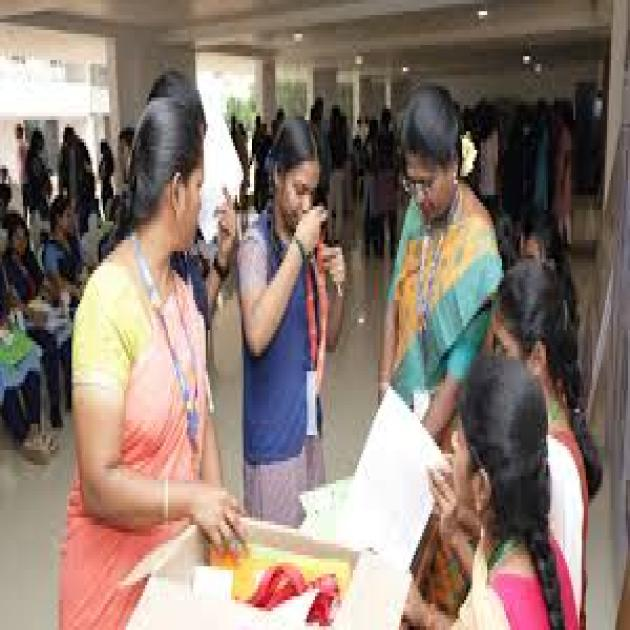there is a person: (60, 84, 246, 611), (387, 77, 500, 420), (432, 392, 555, 630)
